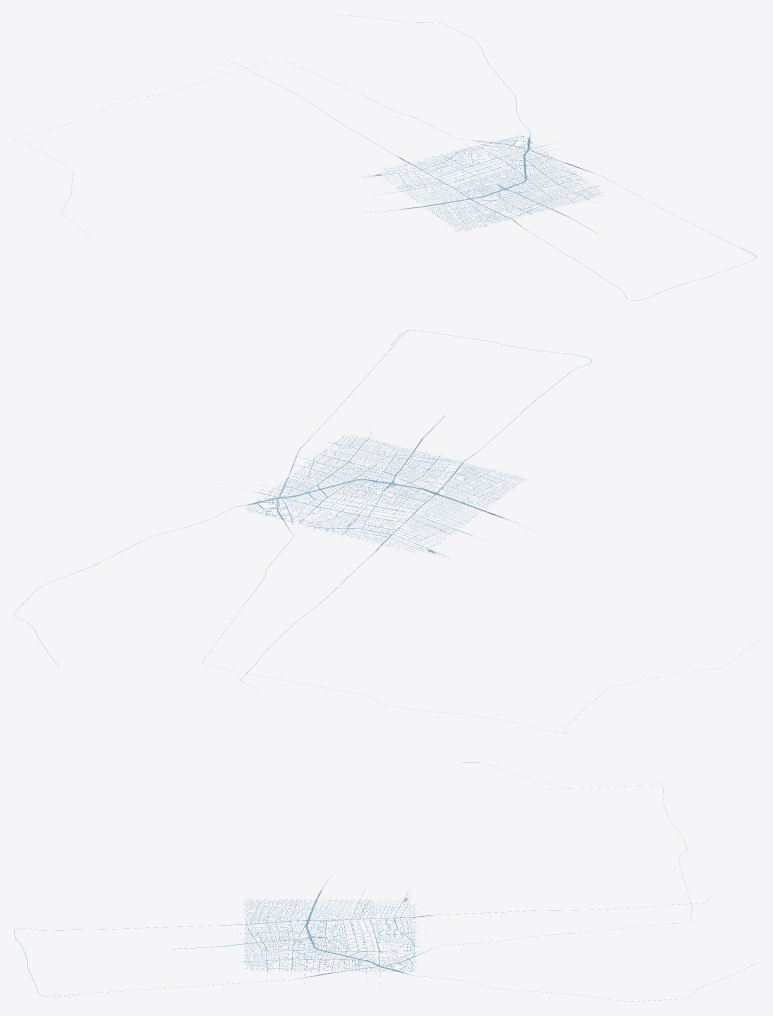
File: roads.glb
The picture shows the model from 3 angles, top to bottom: view 1: azimuth 30°, elevation 25°; view 2: azimuth 150°, elevation 25°; view 3: azimuth 270°, elevation 25°; orthographic projection. The views are drawn at different scales.
Visible parts, largest first — view 1: roads; view 2: roads; view 3: roads.
Part boxes in pixels (x1,y1,x2,y2): roads: (14,14,757,300); roads: (14,329,757,733); roads: (14,762,756,1001).
Size of the model in its own units: 17360 by 83.42 by 22780.
